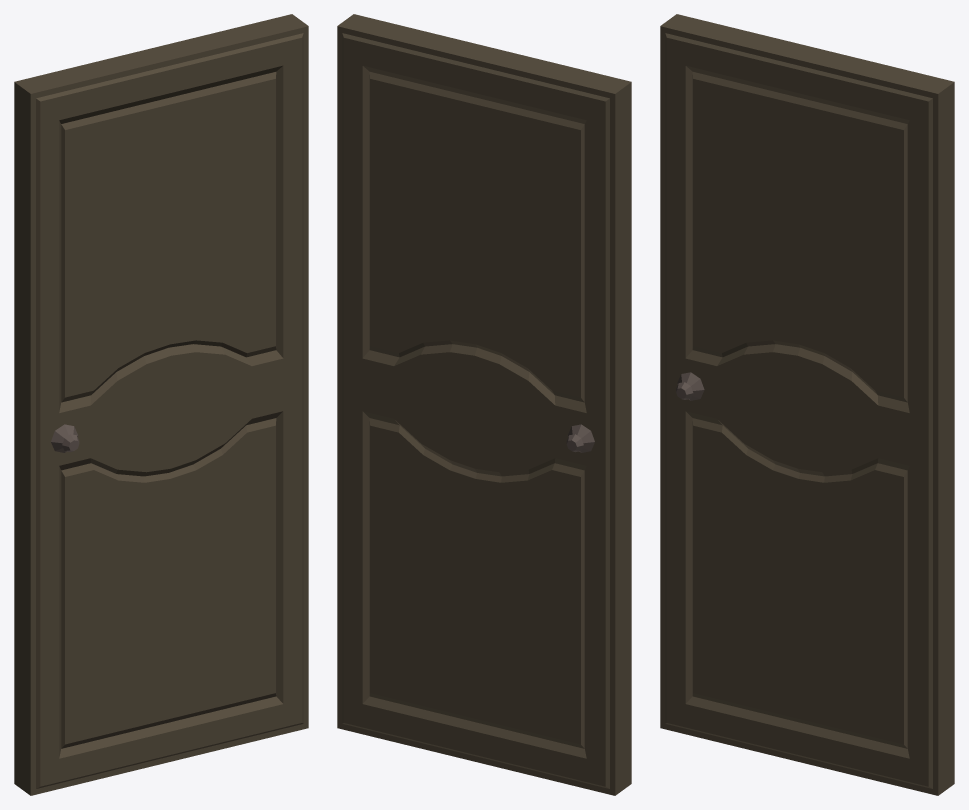
File: quaternius-house-interior-door-4.glb
The picture shows the model from 3 angles, left to right: view 1: azimuth 30°, elevation 25°; view 2: azimuth 150°, elevation 25°; view 3: azimuth 330°, elevation 25°; orthographic projection.
Parts seen in each view (by area): view 1: Door_4; view 2: Door_4; view 3: Door_4.
Boxes of the visible parts, box(x1,y1,x2,y2) form: Door_4: box(14, 14, 308, 795); Door_4: box(337, 14, 631, 795); Door_4: box(660, 14, 954, 795).
Bounding box in the file's own units: 1.74 × 4.2 × 0.4212.
